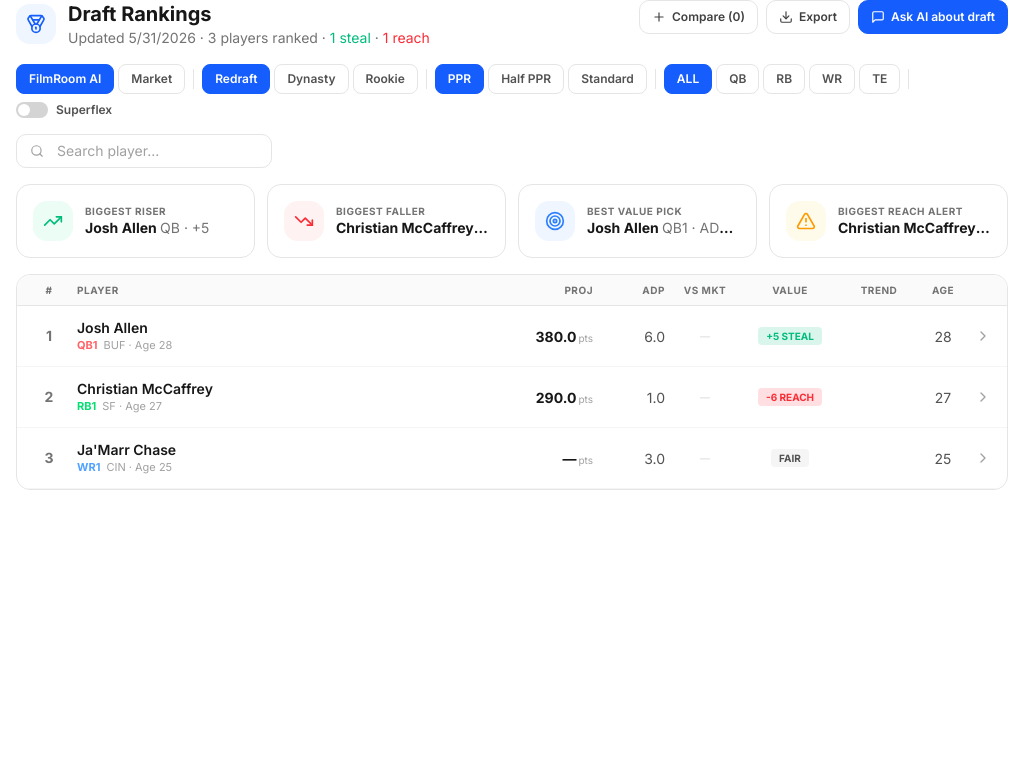
Test case: DraftRankingsView — Ask AI gating › opens the chat modal for Pro users
Click the button "Ask AI about draft" at (933, 17), box [858,0,1008,34]
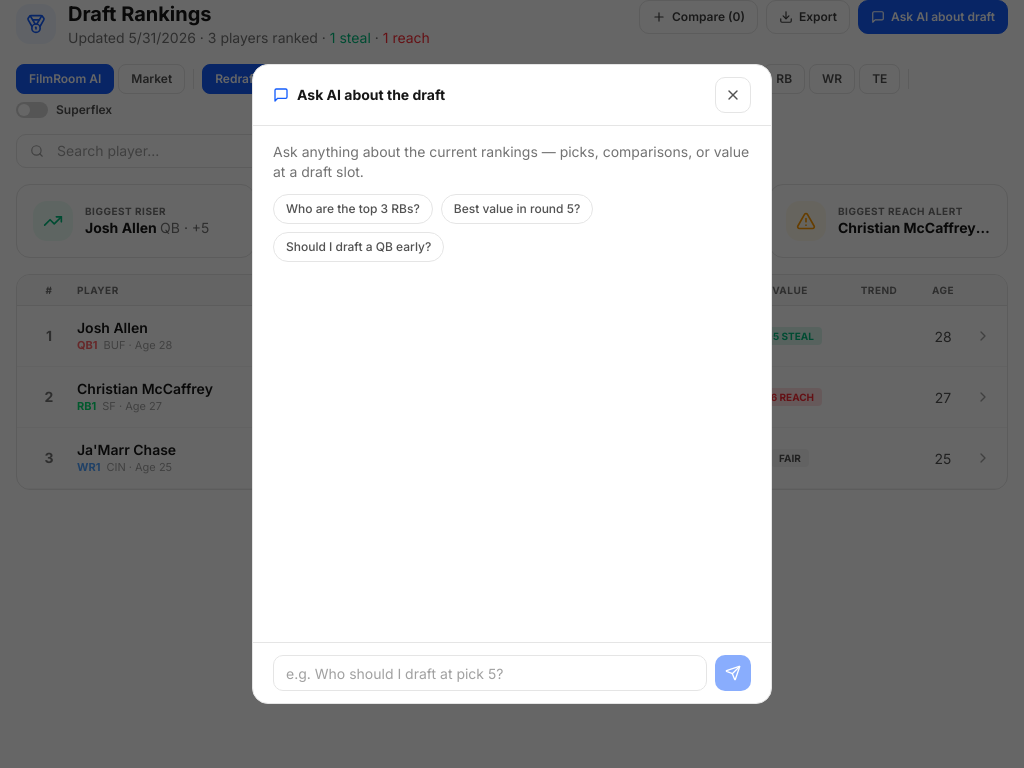
Expected: the dialog "Ask AI about the draft" is shown
